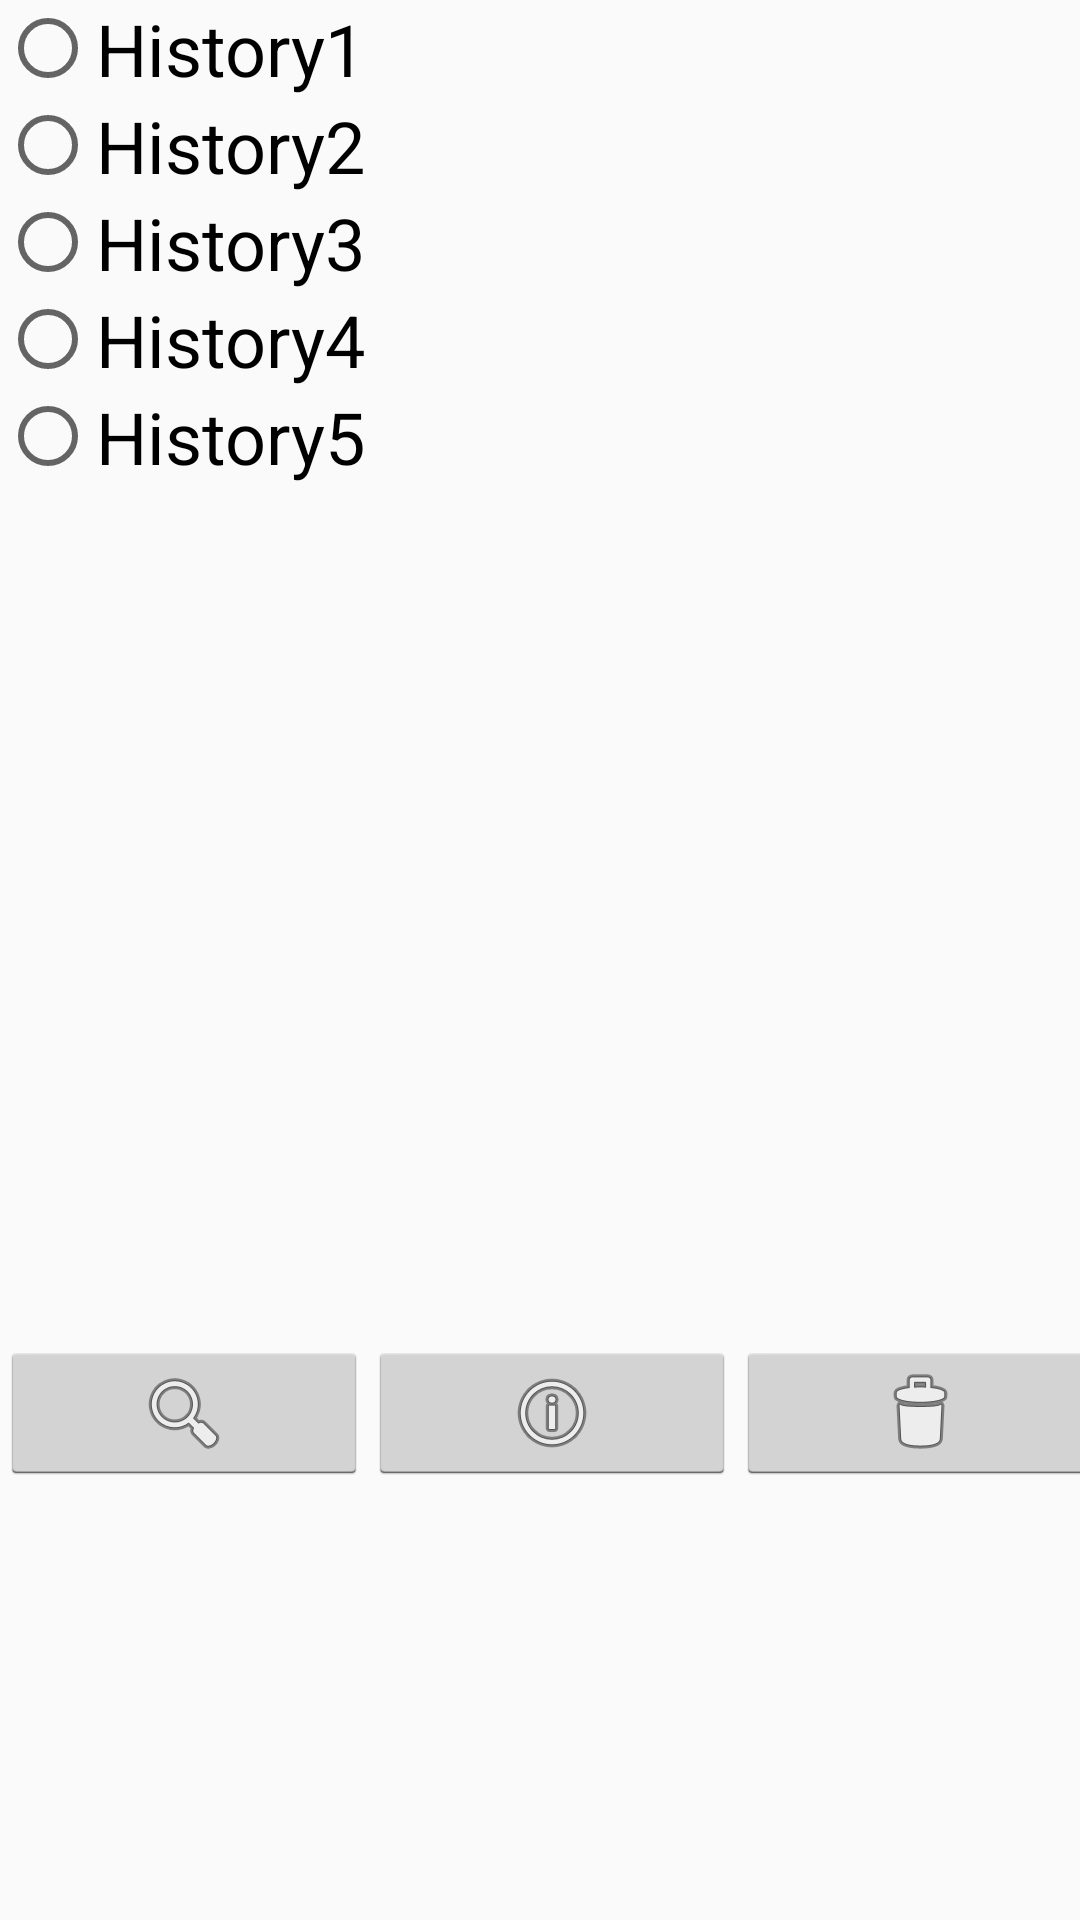

Where to tap for icons on this 1080 x 1920 app screen, as point (x, y):
delete: point (914, 1414)
info details: point (552, 1414)
search: point (184, 1414)
